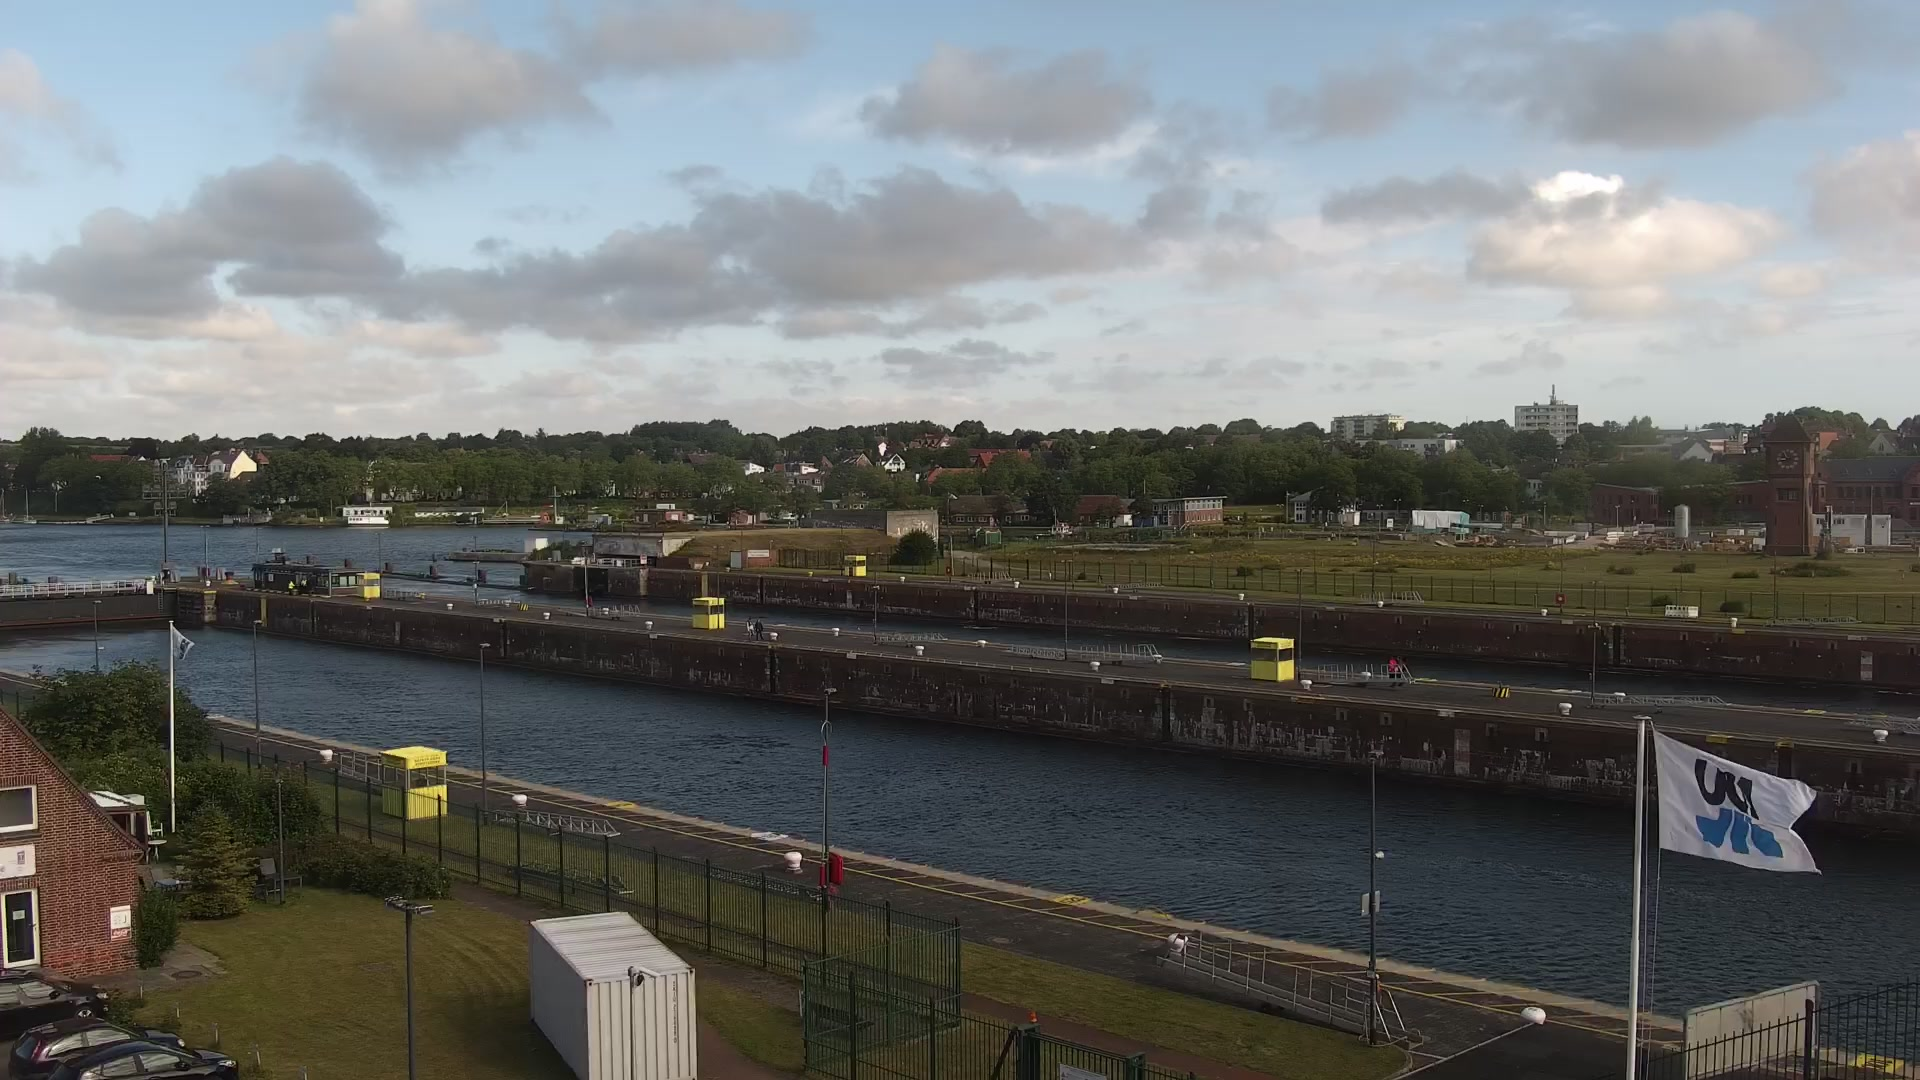human: (744, 615, 755, 642), (1387, 653, 1397, 683), (753, 617, 763, 642), (1395, 653, 1402, 682), (287, 579, 296, 596), (300, 577, 308, 594)
land: (7, 1013, 185, 1078), (48, 1037, 238, 1078), (1, 966, 109, 1038)
sea: (1034, 507, 1073, 537), (11, 486, 38, 524), (1, 487, 11, 522)
